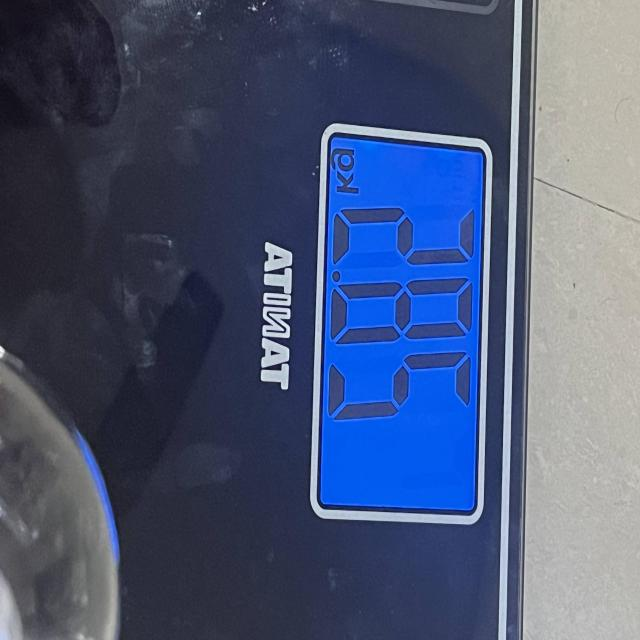ws: (308, 125, 495, 530)
